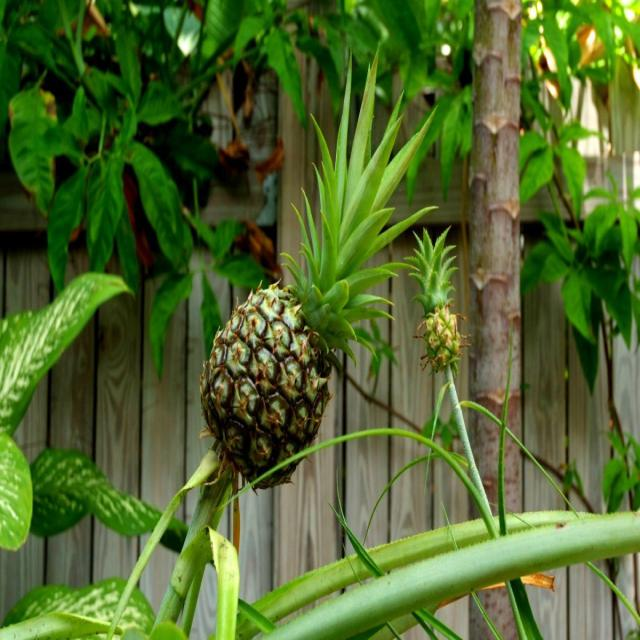pineapple: (199, 231, 347, 495)
